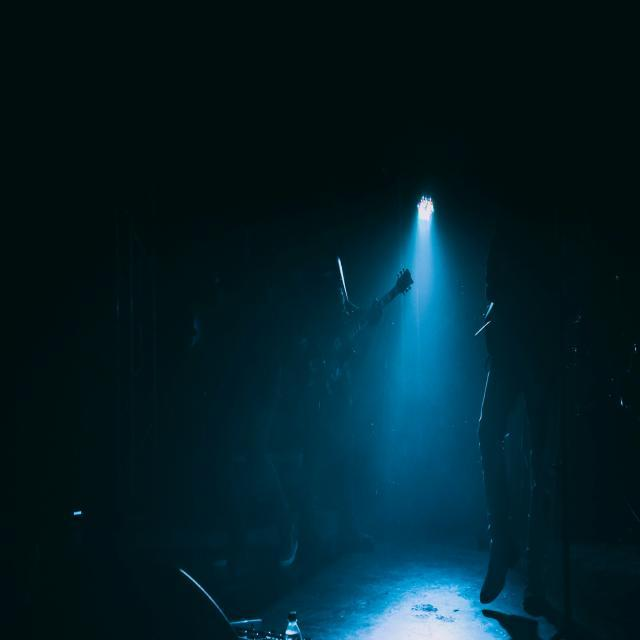bulb_on: (404, 192, 442, 228)
